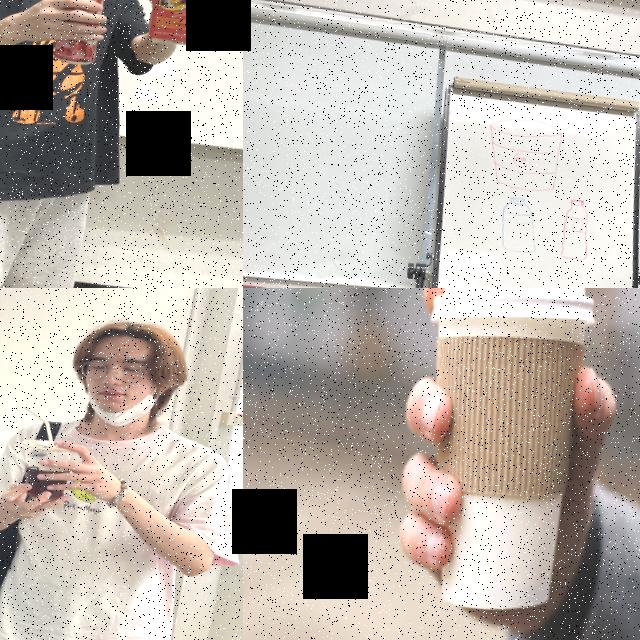can: (51, 0, 107, 67)
cup: (397, 288, 600, 626), (15, 436, 83, 504)
